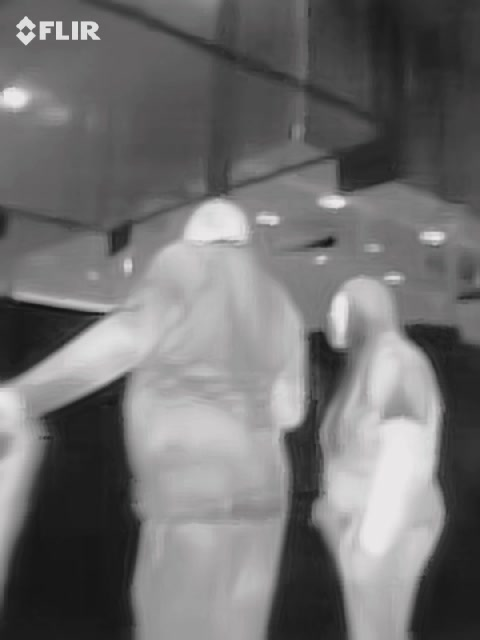head: (327, 275, 394, 352), (184, 195, 248, 245)
